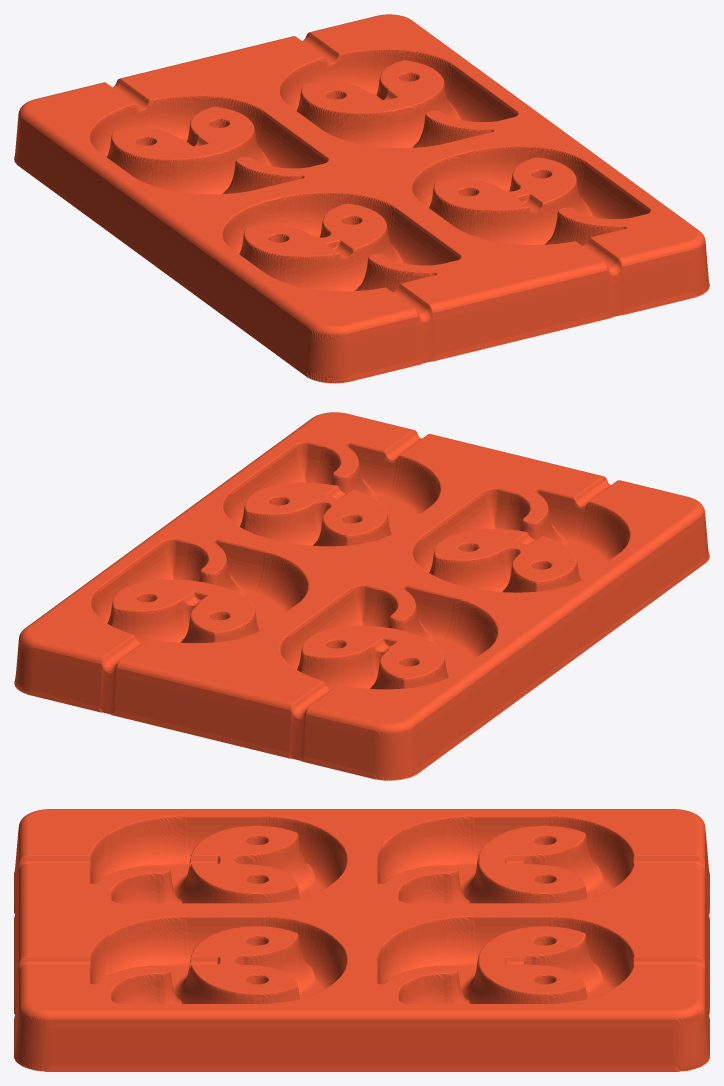
Rendered from mold.glb.
3 views of the same model, one above another, from view 1: azimuth 30°, elevation 25°; view 2: azimuth 150°, elevation 25°; view 3: azimuth 270°, elevation 25° (orthographic). The views are drawn at different scales.
Visible parts, largest first — view 1: geometry_0; view 2: geometry_0; view 3: geometry_0.
Boxes of the visible parts, left/top/right/bottom form: geometry_0: left=14, top=14, right=709, bottom=383; geometry_0: left=14, top=412, right=709, bottom=780; geometry_0: left=14, top=809, right=709, bottom=1071.
Size of the model in its own units: 0.1248 by 0.0155 by 0.1735.
